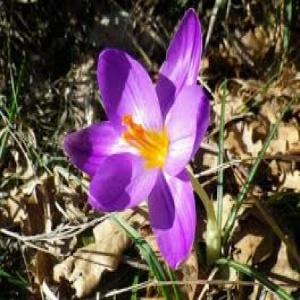Saffron: (65, 9, 210, 267)
